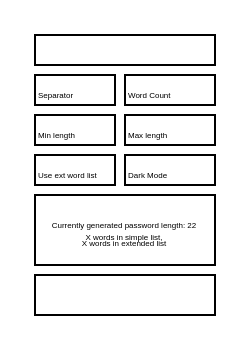
The diagram is 250 pixels wide and 350 high, and some of its shapes have lost their labels. Here are the shapes that lost their labels. From the top down, the centre of each, then its label:
point 124,49: Output field
point 124,294: Generate
